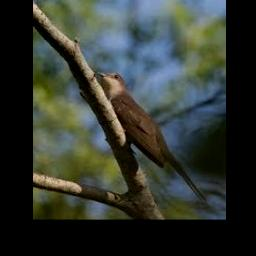Cuckoo: (96, 71, 206, 204)
